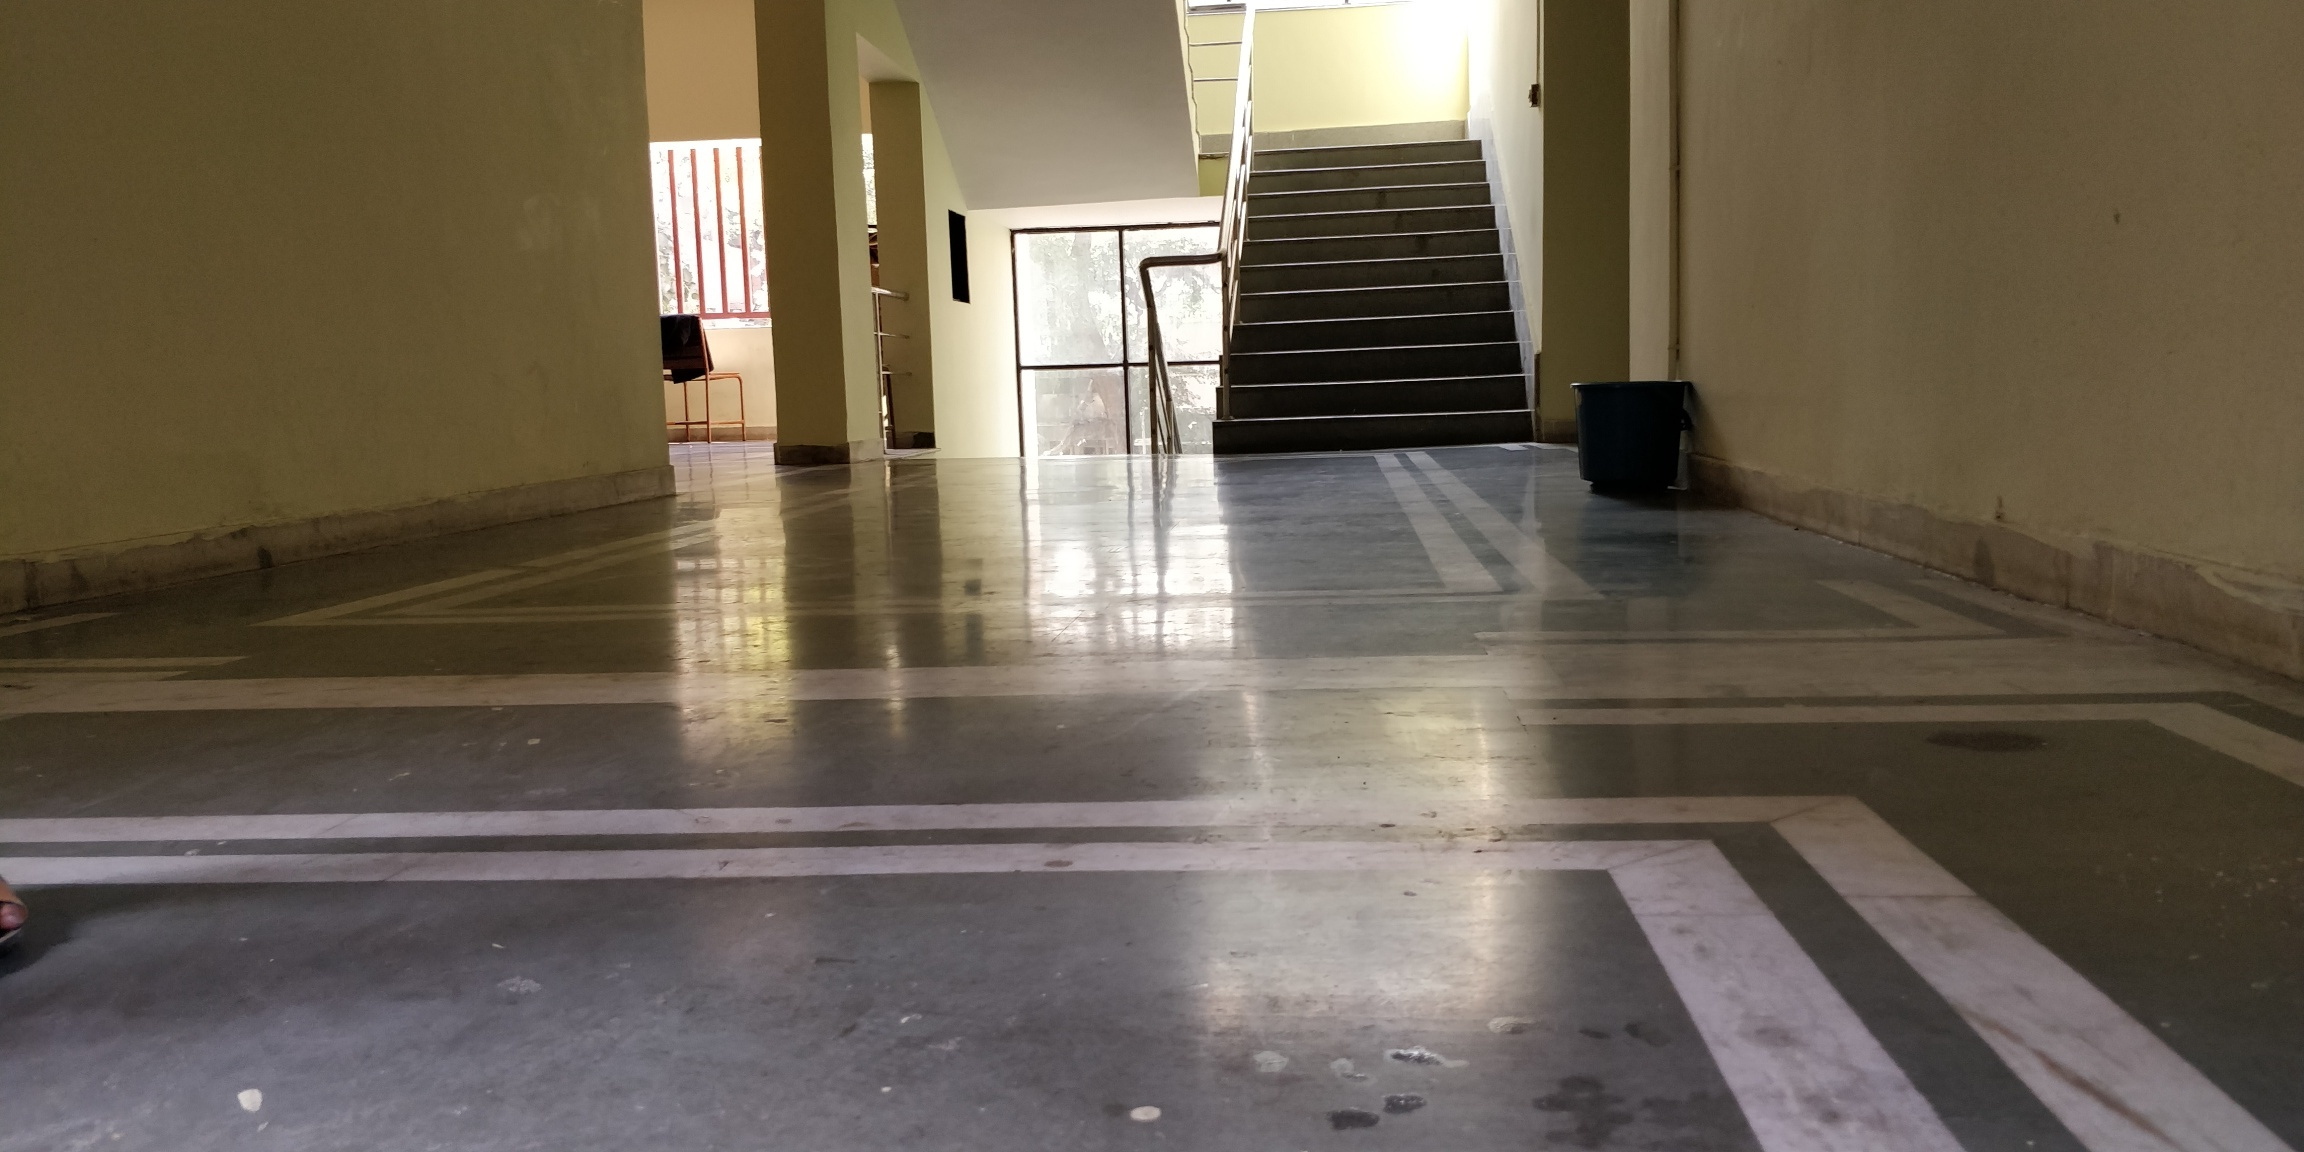stairs_up: (1223, 144, 1519, 458)
